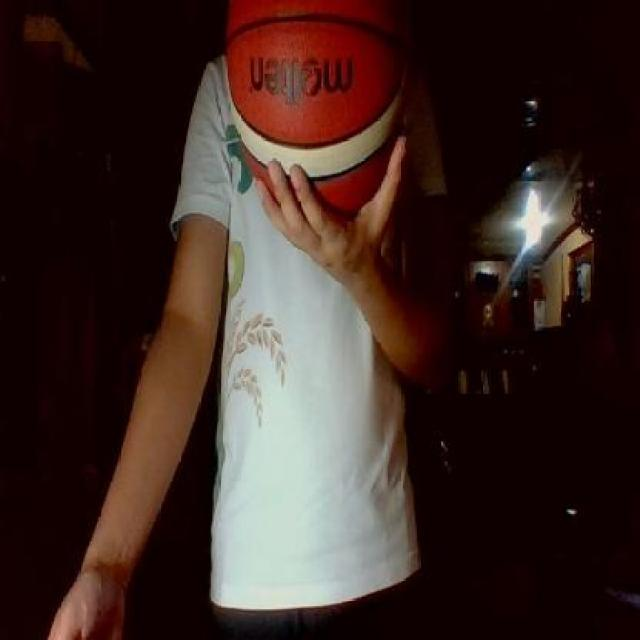Ball: (221, 4, 421, 212)
